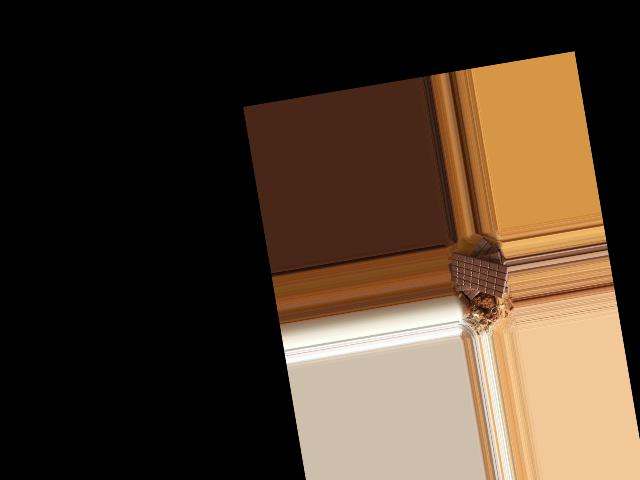chocolate: (448, 243, 513, 308)
